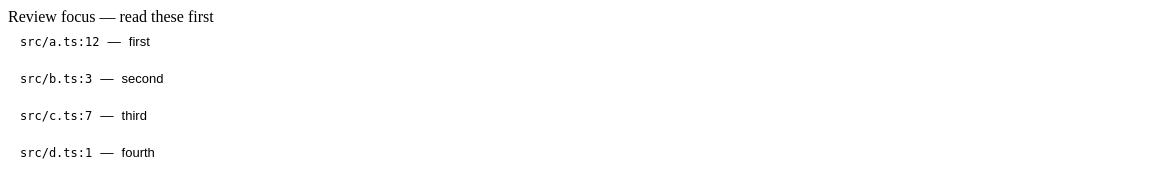
Test: ReviewFocus › AC-59/AC-60: an item in the diff opens it; one outside shows fileNotInDiff and does not navigate
Click the button with aria-label "Open src/a.ts:12": [60, 42] box 8,26 -> 1144,57
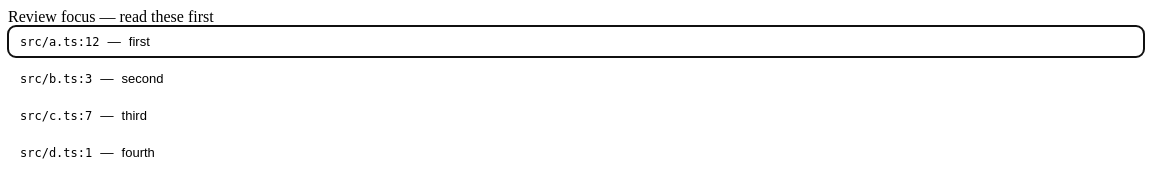
Click the button with aria-label "Open src/b.ts:3": [56, 79] box 8,63 -> 1144,94
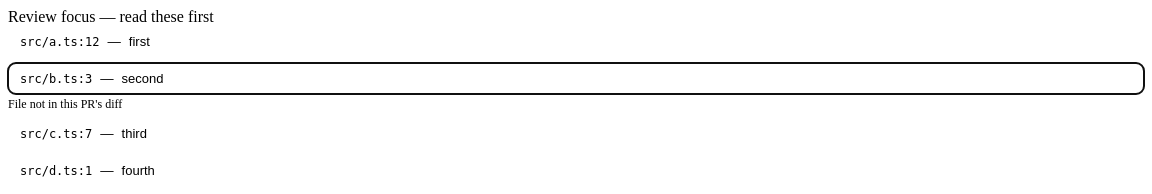
expect the text "File not in this PR's diff" is shown: met, box 8,97 -> 122,111
